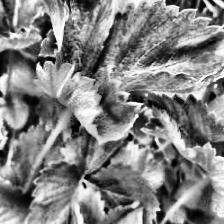Powdery Mildew Leaf: (31, 61, 147, 146), (131, 90, 224, 194), (34, 0, 118, 75), (75, 185, 144, 224)
